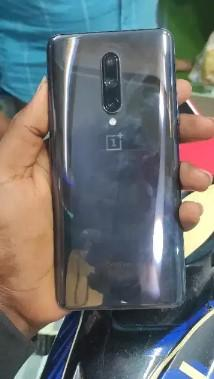Smart Phone: (48, 28, 186, 309)
